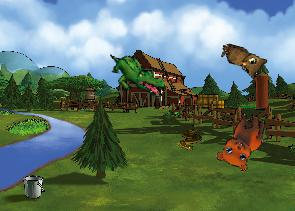bear: (214, 107, 267, 173)
crocodile: (104, 52, 169, 98)
owl: (216, 42, 268, 81)
